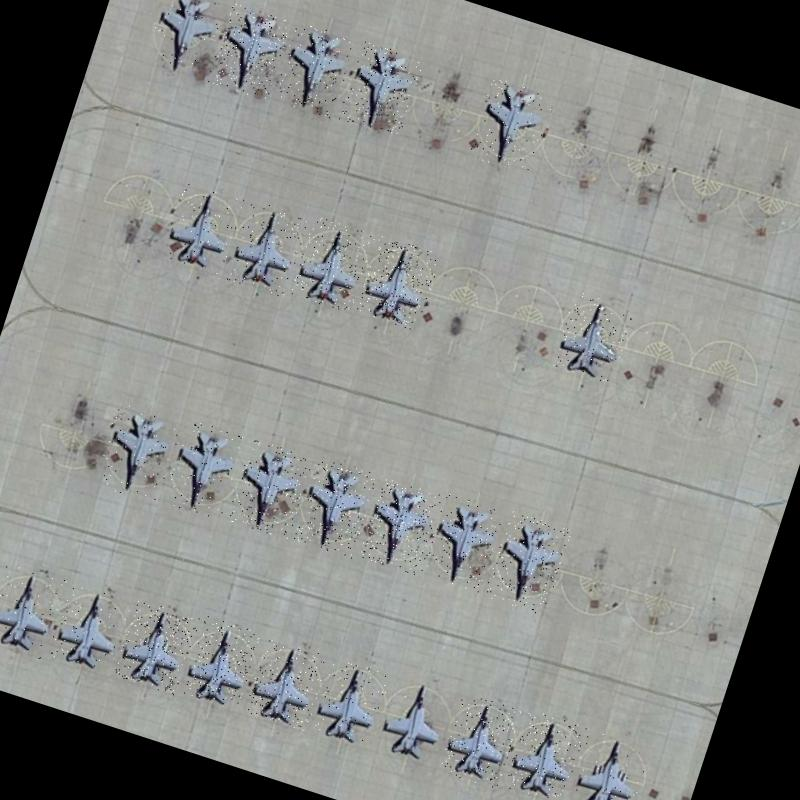A16: (90, 402, 183, 504), (483, 511, 572, 616), (226, 438, 315, 540), (467, 75, 556, 176), (372, 672, 461, 771), (294, 456, 378, 559), (289, 215, 376, 314), (338, 40, 424, 140), (163, 419, 247, 521), (112, 599, 200, 696), (355, 235, 442, 332), (272, 21, 358, 119), (206, 3, 292, 101), (420, 492, 504, 592), (46, 582, 134, 677), (438, 692, 523, 790), (226, 199, 310, 298), (358, 477, 442, 576), (160, 181, 245, 278), (244, 637, 330, 732), (550, 290, 635, 384), (181, 615, 262, 712), (503, 709, 588, 800), (310, 657, 392, 749), (141, 0, 227, 84), (0, 559, 67, 661), (565, 728, 654, 800)
